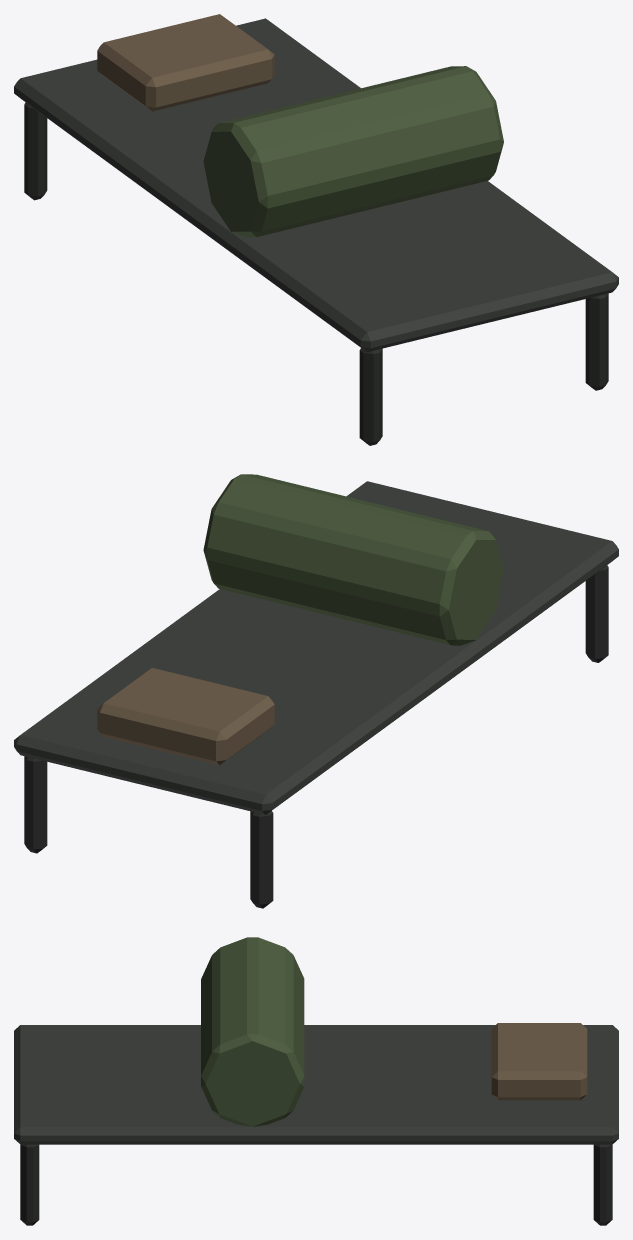
Rendered from cot_bedroll.glb.
3 views of the same model, one above another, from view 1: azimuth 30°, elevation 25°; view 2: azimuth 150°, elevation 25°; view 3: azimuth 270°, elevation 25° (orthographic). The views are drawn at different scales.
Parts seen in each view (by area): view 1: prop.cot_bedroll; view 2: prop.cot_bedroll; view 3: prop.cot_bedroll.
Boxes of the visible parts, left/top/right/bottom form: prop.cot_bedroll: left=14, top=14, right=618, bottom=445; prop.cot_bedroll: left=14, top=474, right=618, bottom=908; prop.cot_bedroll: left=14, top=937, right=618, bottom=1225.
Size of the model in its own units: 0.4831 by 0.3999 by 1.15.
